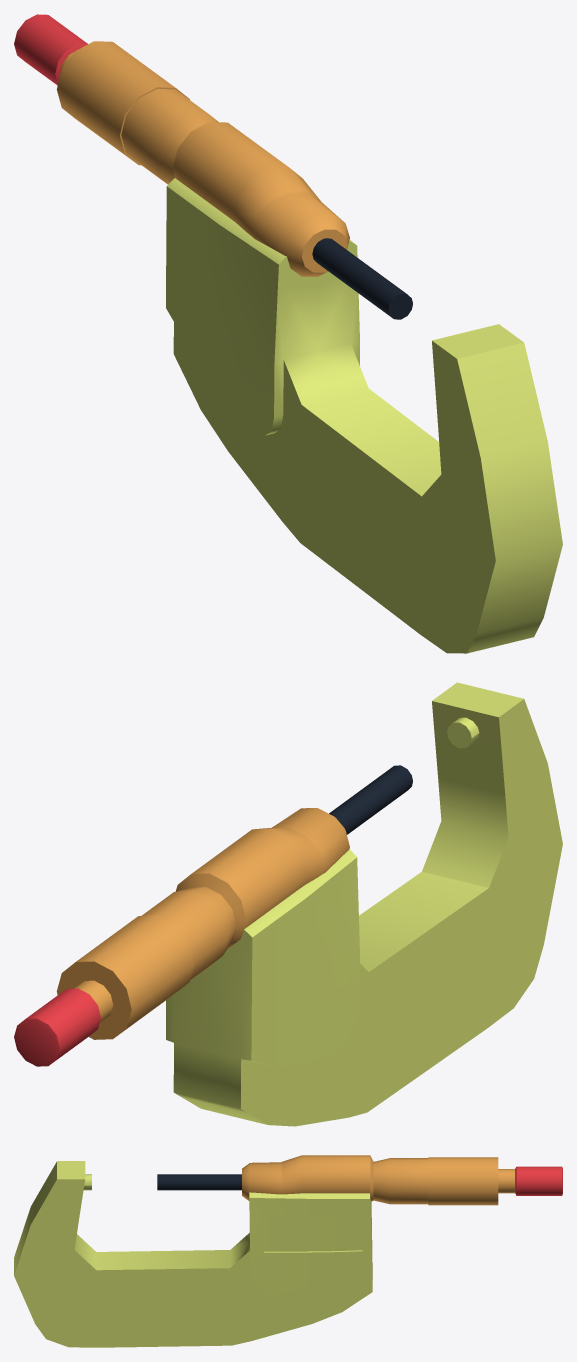
The model's file is Mekrometr.fbx.
3 renders of one model, top to bottom at view 1: azimuth 30°, elevation 25°; view 2: azimuth 150°, elevation 25°; view 3: azimuth 270°, elevation 25°, orthographic. The views are drawn at different scales.
Parts seen in each view (by area): view 1: Solid, Solid2, Motion, Krutilka; view 2: Solid, Solid2, Krutilka, Motion; view 3: Solid, Solid2, Motion, Krutilka.
Boxes of the visible parts, box(x1,y1,x2,y2) form: Solid: box(166, 178, 562, 653); Solid2: box(56, 41, 349, 276); Motion: box(312, 238, 412, 319); Krutilka: box(14, 14, 87, 85); Solid: box(166, 682, 562, 1126); Solid2: box(56, 808, 349, 1039); Krutilka: box(14, 988, 100, 1066); Motion: box(329, 765, 412, 834); Solid: box(14, 1161, 372, 1347); Solid2: box(242, 1155, 515, 1205); Motion: box(157, 1174, 241, 1190); Krutilka: box(515, 1166, 562, 1195).
Bounding box in the file's own units: 69.74 × 254 × 696.
